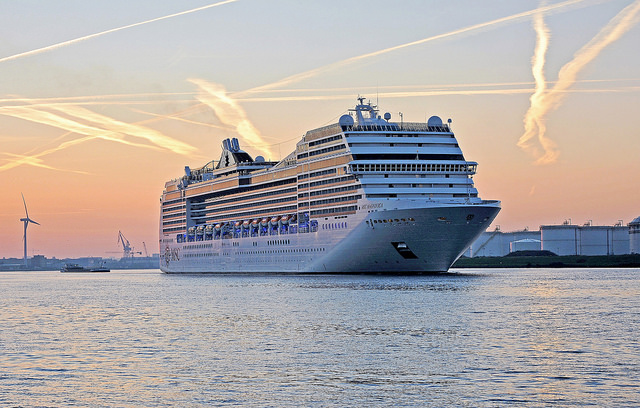boat: (61, 257, 115, 273)
cruise_ship: (158, 110, 503, 278)
